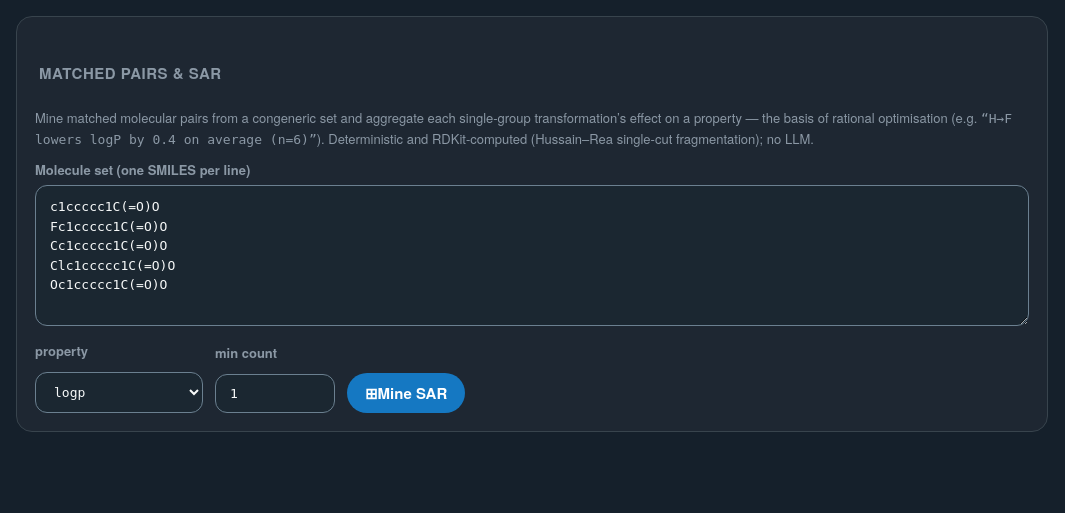
it: SarScreen › refuses a set with fewer than two molecules
Replace the text in the text box with "CCO" at (532, 256), box [35,185,1029,326]
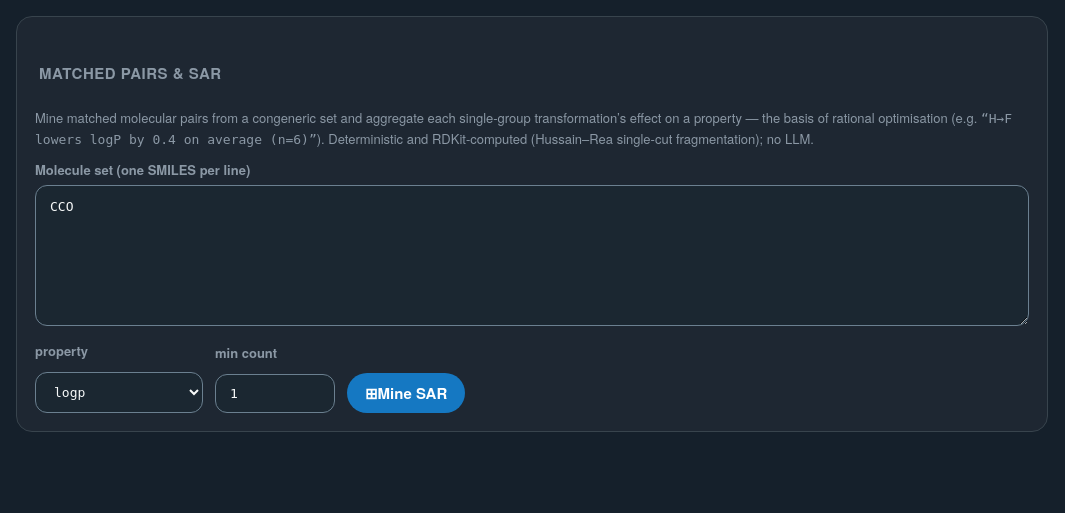
Click the button "⊞Mine SAR".
click(406, 393)  # box [347,373,465,413]
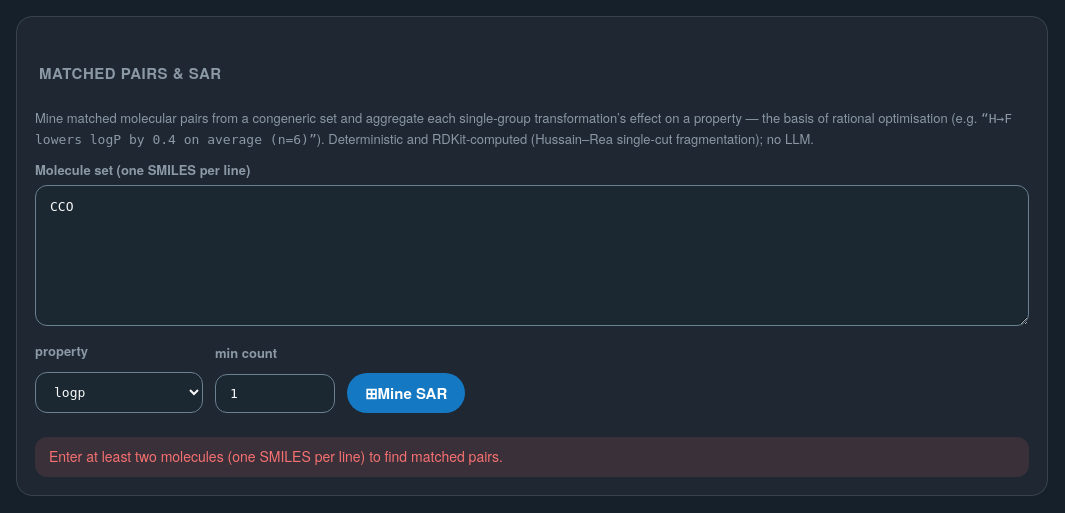
Expected: the text "at least two molecules" is shown, [49,446,503,466]
